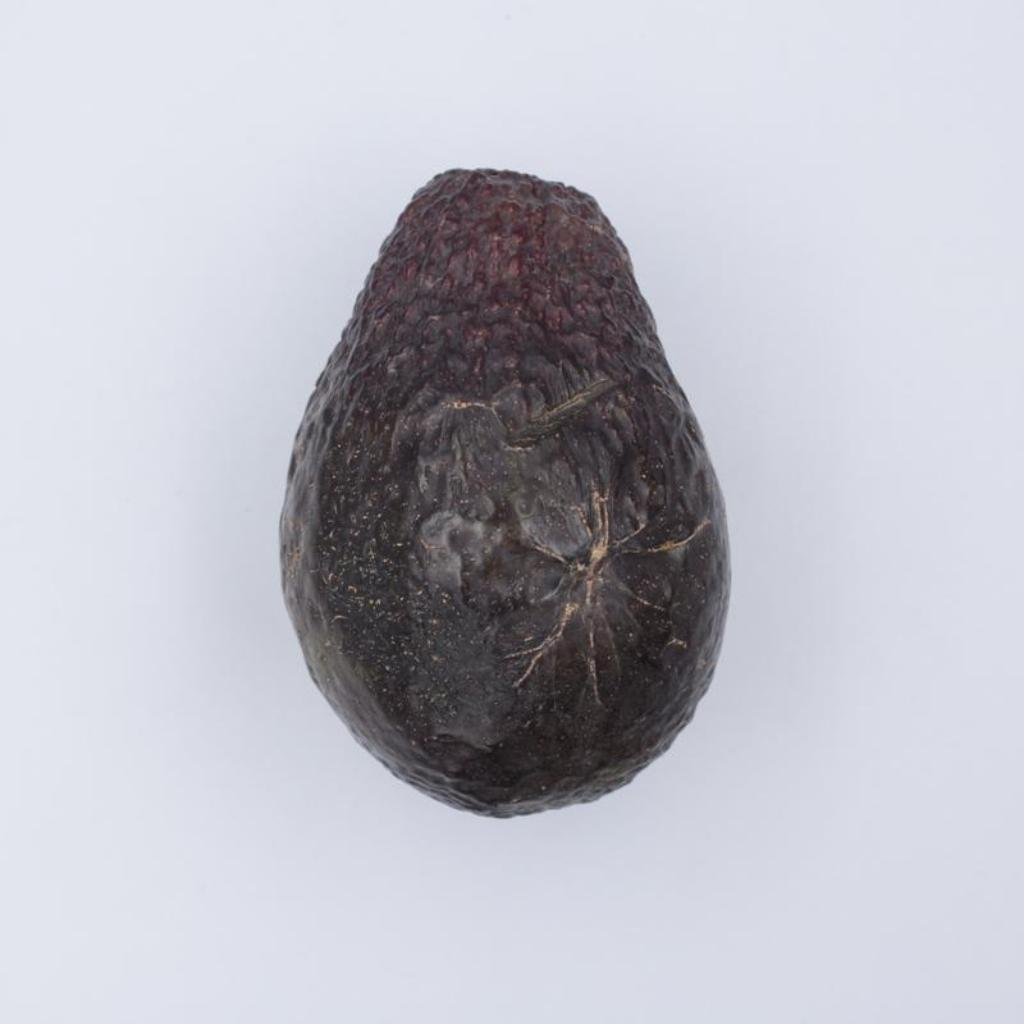rona: (280, 169, 728, 815)
